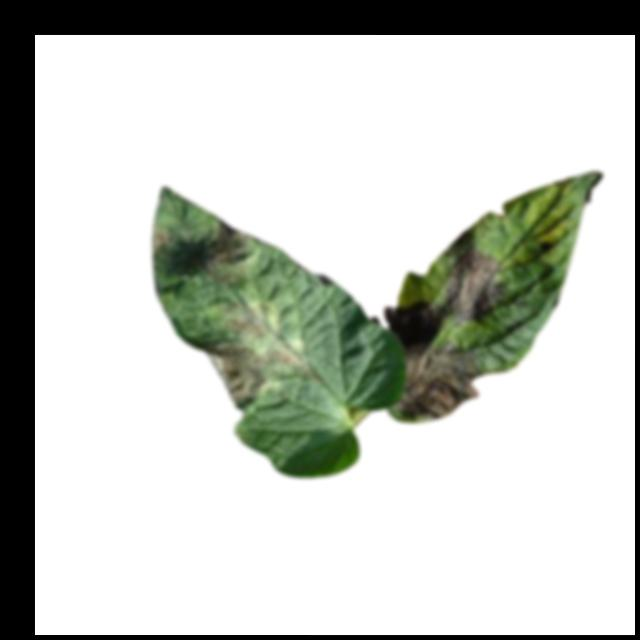Late_blight: (382, 301, 479, 424), (203, 341, 302, 409), (445, 251, 504, 325), (222, 299, 275, 341), (210, 219, 252, 267), (151, 227, 175, 252)
